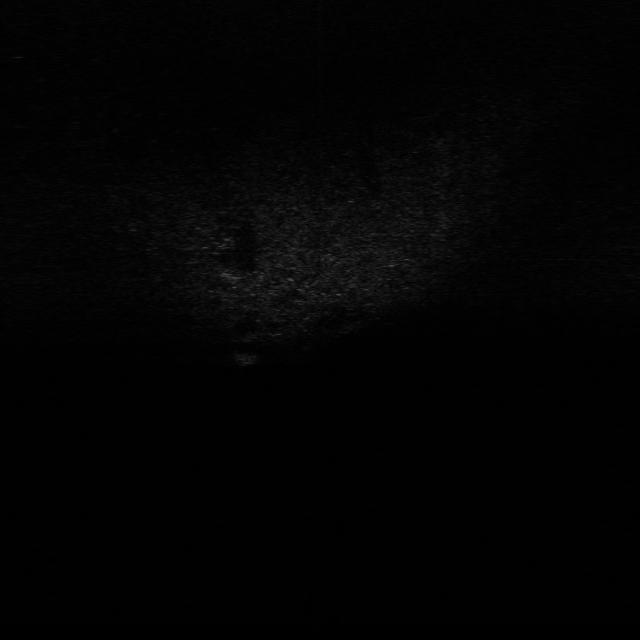cube: (231, 345, 263, 370)
